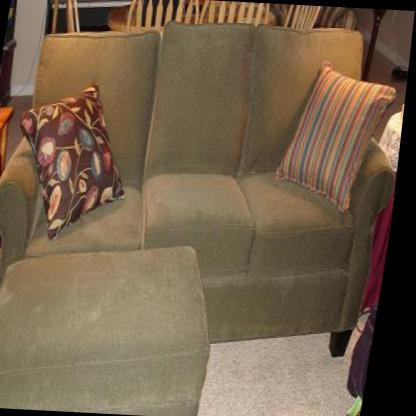Sofa: (0, 4, 416, 361)
